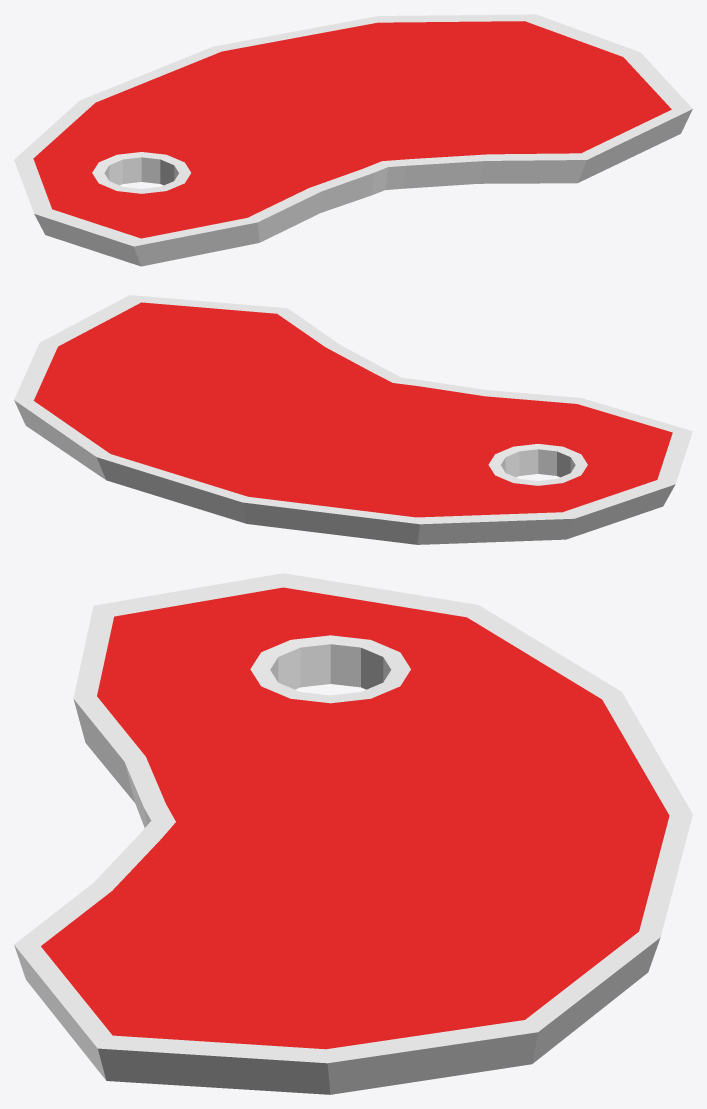
The model's file is beaf.glb.
3 renders of one model, top to bottom at view 1: azimuth 30°, elevation 25°; view 2: azimuth 150°, elevation 25°; view 3: azimuth 270°, elevation 25°, orthographic. The views are drawn at different scales.
Visible parts, largest first — view 1: Cylinder; view 2: Cylinder; view 3: Cylinder.
Boxes of the visible parts, x1,y1,x2,y2 form: Cylinder: (14,14,692,266); Cylinder: (14,295,692,544); Cylinder: (14,573,692,1094).
Bounding box in the file's own units: 3.09 × 0.1215 × 1.81.
